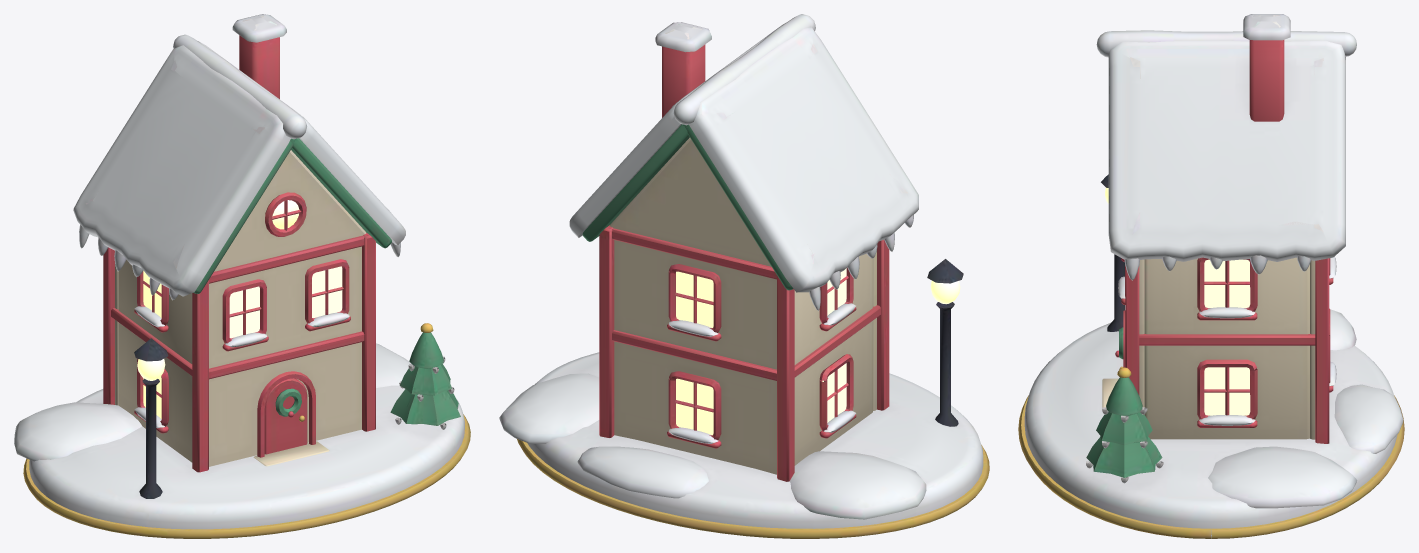
The model's file is casa_navidad.glb.
3 renders of one model, left to right at view 1: azimuth 30°, elevation 25°; view 2: azimuth 150°, elevation 25°; view 3: azimuth 270°, elevation 25°, orthographic. The views are drawn at different scales.
Parts seen in each view (by area): view 1: christmas-village-house_body; view 2: christmas-village-house_body; view 3: christmas-village-house_body.
Part boxes in pixels (x1,y1,x2,y2): christmas-village-house_body: (14,14,470,538); christmas-village-house_body: (499,14,989,538); christmas-village-house_body: (1018,14,1404,538).
Size of the model in its own units: 0.318 by 0.304 by 0.244.
Materials: 2 (1 with a texture image).
